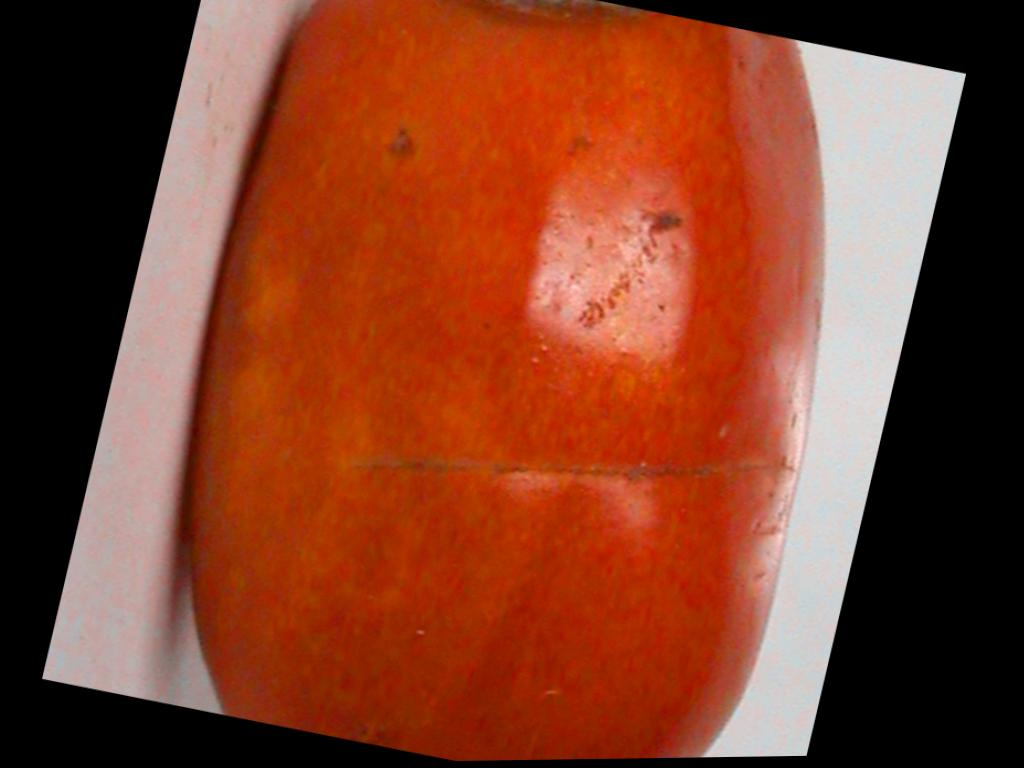rot_mold_decay: (494, 0, 653, 17)
surface_damage: (356, 457, 796, 480), (387, 128, 415, 158)
tomato: (193, 0, 824, 761)
